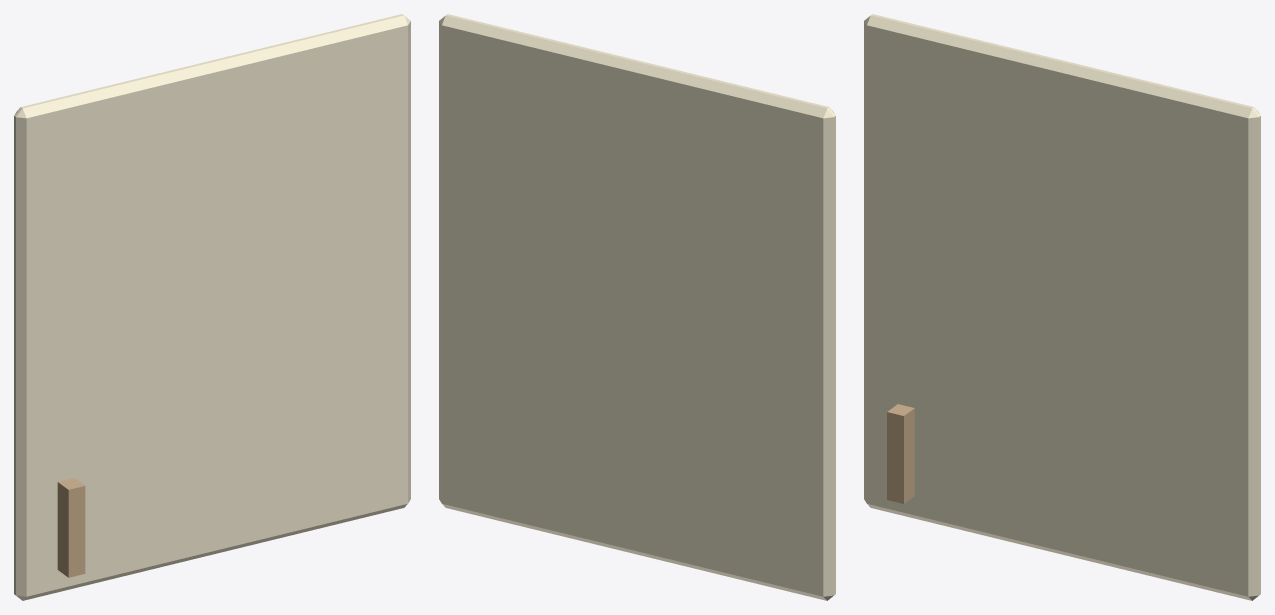
Rendered from kitchen_cabinet_door.glb.
3 views of the same model, side by side, from view 1: azimuth 30°, elevation 25°; view 2: azimuth 150°, elevation 25°; view 3: azimuth 330°, elevation 25° (orthographic).
Visible parts, largest first — view 1: kitchen_cabinet_door; view 2: kitchen_cabinet_door; view 3: kitchen_cabinet_door.
Boxes of the visible parts, x1,y1,x2,y2 form: kitchen_cabinet_door: (14, 14, 410, 600); kitchen_cabinet_door: (439, 14, 835, 600); kitchen_cabinet_door: (864, 14, 1260, 600).
Bounding box in the file's own units: 0.47 × 0.56 × 0.0425.
